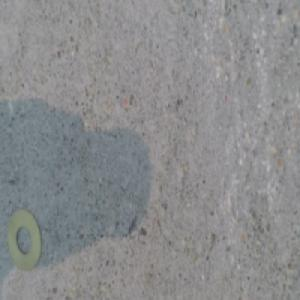Washer: (7, 207, 41, 269)
